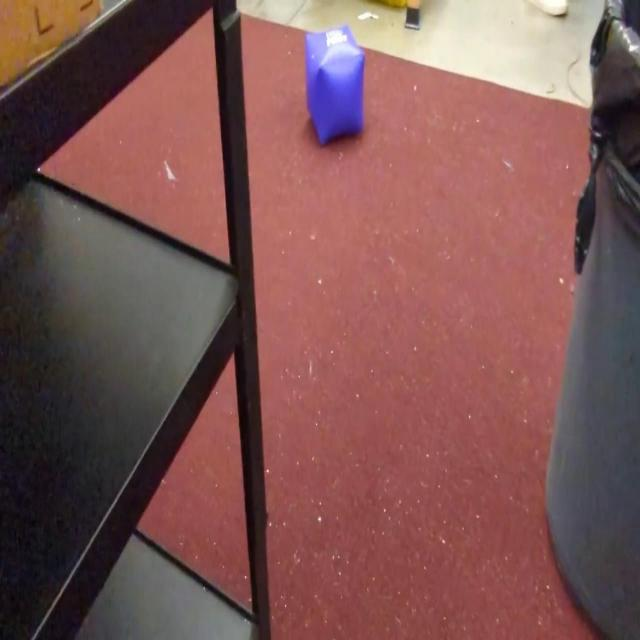frc_cube: (306, 24, 366, 146)
